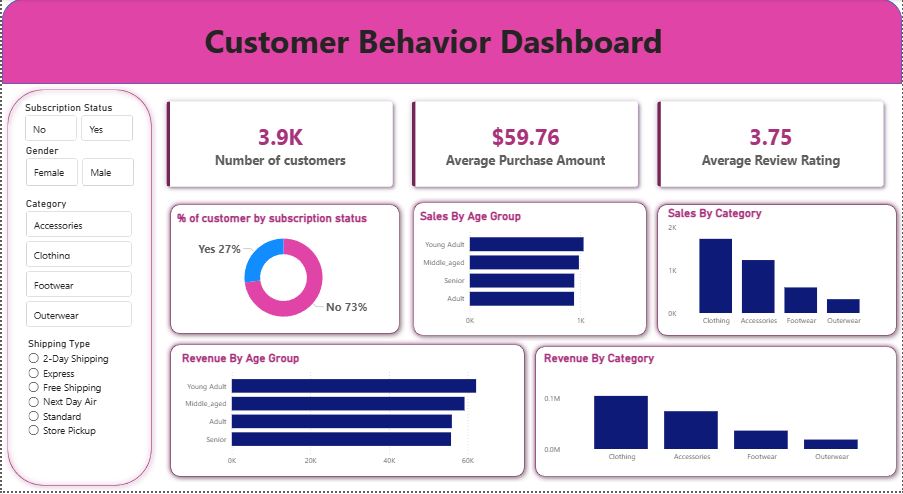

What the dashboard file says about the page in this screenshot:
{"tool":"powerbi","page":{"name":"Page 1","canvas":[1500,820],"ordinal":0},"visuals":[{"type":"cardVisual","fields":{"Data":["public customer.Number of customers","public customer.Average_purchase_amount","public customer.Average_review_rating"]},"box":[245,141.7,1255,200],"z":0},{"type":"shape","box":[0,0,1500,141.7],"z":1000},{"type":"textbox","box":[165,26.7,1108.3,115],"z":2000},{"type":"shape","box":[271.7,333.3,400,233.3],"z":3000},{"type":"donutChart","title":"% of customer by subscription status","fields":{"Category":["public customer.subscription_status"],"Y":["CountNonNull(public customer.customer_id)"]},"box":[286.7,353.3,365,200],"z":4000},{"type":"shape","box":[1083.3,333.3,416.7,236.7],"z":5000},{"type":"shape","box":[676.7,330,406.7,240],"z":6000},{"type":"clusteredColumnChart","title":"Sales By Category","fields":{"Category":["public customer.category"],"Y":["CountNonNull(public customer.customer_id)"]},"box":[1105,345,360,208.3],"z":8000},{"type":"shape","box":[0,141.7,258.3,678.3],"z":9000},{"type":"advancedSlicerVisual","fields":{"Values":["public customer.subscription_status"]},"box":[33.3,170,191.7,71.7],"z":10000},{"type":"advancedSlicerVisual","title":"Gender","fields":{"Values":["public customer.gender"]},"box":[35,241.7,190,75],"z":11000},{"type":"advancedSlicerVisual","fields":{"Values":["public customer.category"]},"box":[35,330,186.7,223.3],"z":12000},{"type":"shape","box":[271.7,566.7,608.3,238.3],"z":15000},{"type":"shape","box":[880,570,620,235],"z":16000},{"type":"clusteredBarChart","title":"Sales By Age Group","fields":{"Category":["public customer.age_group"],"Y":["Count(public customer.customer_id)"]},"box":[691.7,350,376.7,203.3],"z":17000},{"type":"clusteredBarChart","title":"Revenue By Age Group","fields":{"Y":["Sum(public customer.purchase_amount)"],"Category":["public customer.age_group"]},"box":[295,586.7,561.7,200],"z":17500},{"type":"clusteredColumnChart","title":"Revenue By Category","fields":{"Category":["public customer.category"],"Y":["Sum(public customer.purchase_amount)"]},"box":[898.3,586.7,583.3,193.3],"z":18000},{"type":"listSlicer","fields":{"Values":["public customer.shipping_type"]},"box":[38.3,563.3,181.7,223.3],"z":18001}]}

Visuals, with their boxes in screenshot pixels (x1, y1, x2, y2), scaled from the page's 1500x820 canvas onto the 903x494 screenshot:
cardVisual - public customer.Number of customers x public customer.Average_purchase_amount: (147, 85, 902, 206)
shape: (0, 0, 902, 85)
textbox: (99, 16, 767, 85)
shape: (164, 201, 404, 341)
"% of customer by subscription status" donutChart: (173, 213, 392, 333)
shape: (652, 201, 902, 343)
shape: (407, 199, 652, 343)
"Sales By Category" clusteredColumnChart: (665, 208, 882, 333)
shape: (0, 85, 155, 493)
advancedSlicerVisual - public customer.subscription_status: (20, 102, 135, 146)
"Gender" advancedSlicerVisual: (21, 146, 135, 191)
advancedSlicerVisual - public customer.category: (21, 199, 133, 333)
shape: (164, 341, 530, 485)
shape: (530, 343, 902, 485)
"Sales By Age Group" clusteredBarChart: (416, 211, 643, 333)
"Revenue By Age Group" clusteredBarChart: (178, 353, 516, 474)
"Revenue By Category" clusteredColumnChart: (541, 353, 892, 470)
listSlicer - public customer.shipping_type: (23, 339, 132, 474)
